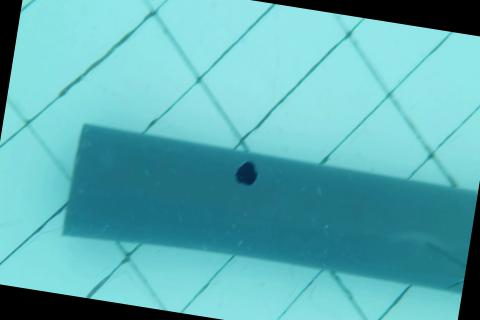kebocoran: (232, 157, 260, 188)
keretakan: (419, 239, 469, 289)
